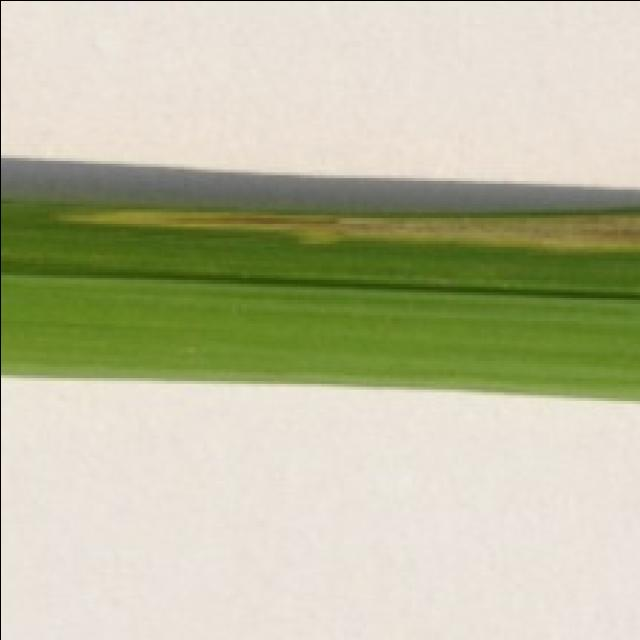Unhealthy: (56, 207, 640, 253)
